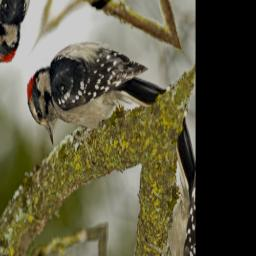Woodpecker: (18, 0, 176, 216)
